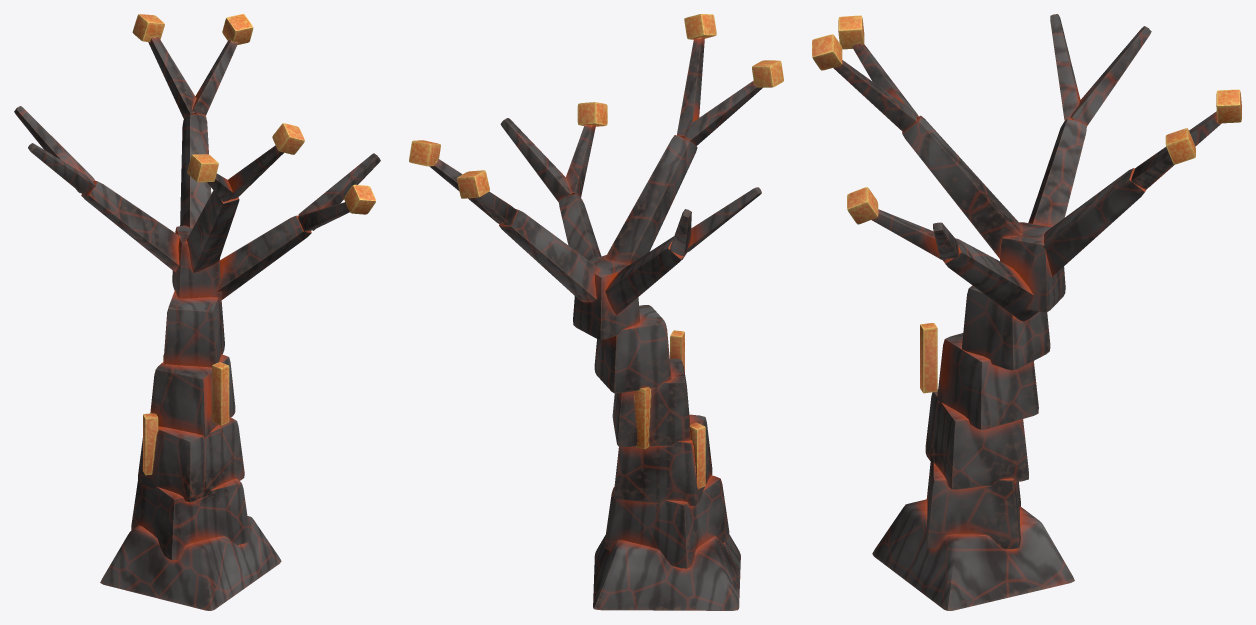
File: Volcan_ArbreCalcine.fbx
3 renders of one model, left to right at view 1: azimuth 30°, elevation 25°; view 2: azimuth 150°, elevation 25°; view 3: azimuth 270°, elevation 25°, orthographic. The views are drawn at different scales.
Parts seen in each view (by area): view 1: Volcan_ArbreCalcine; view 2: Volcan_ArbreCalcine; view 3: Volcan_ArbreCalcine.
Part boxes in pixels (box(x1,y1,x2,y2)): Volcan_ArbreCalcine: box(14, 14, 380, 610); Volcan_ArbreCalcine: box(409, 14, 783, 610); Volcan_ArbreCalcine: box(812, 14, 1241, 610).
Bounding box in the file's own units: 874 × 1367 × 967.
1 material, 1 textured.
